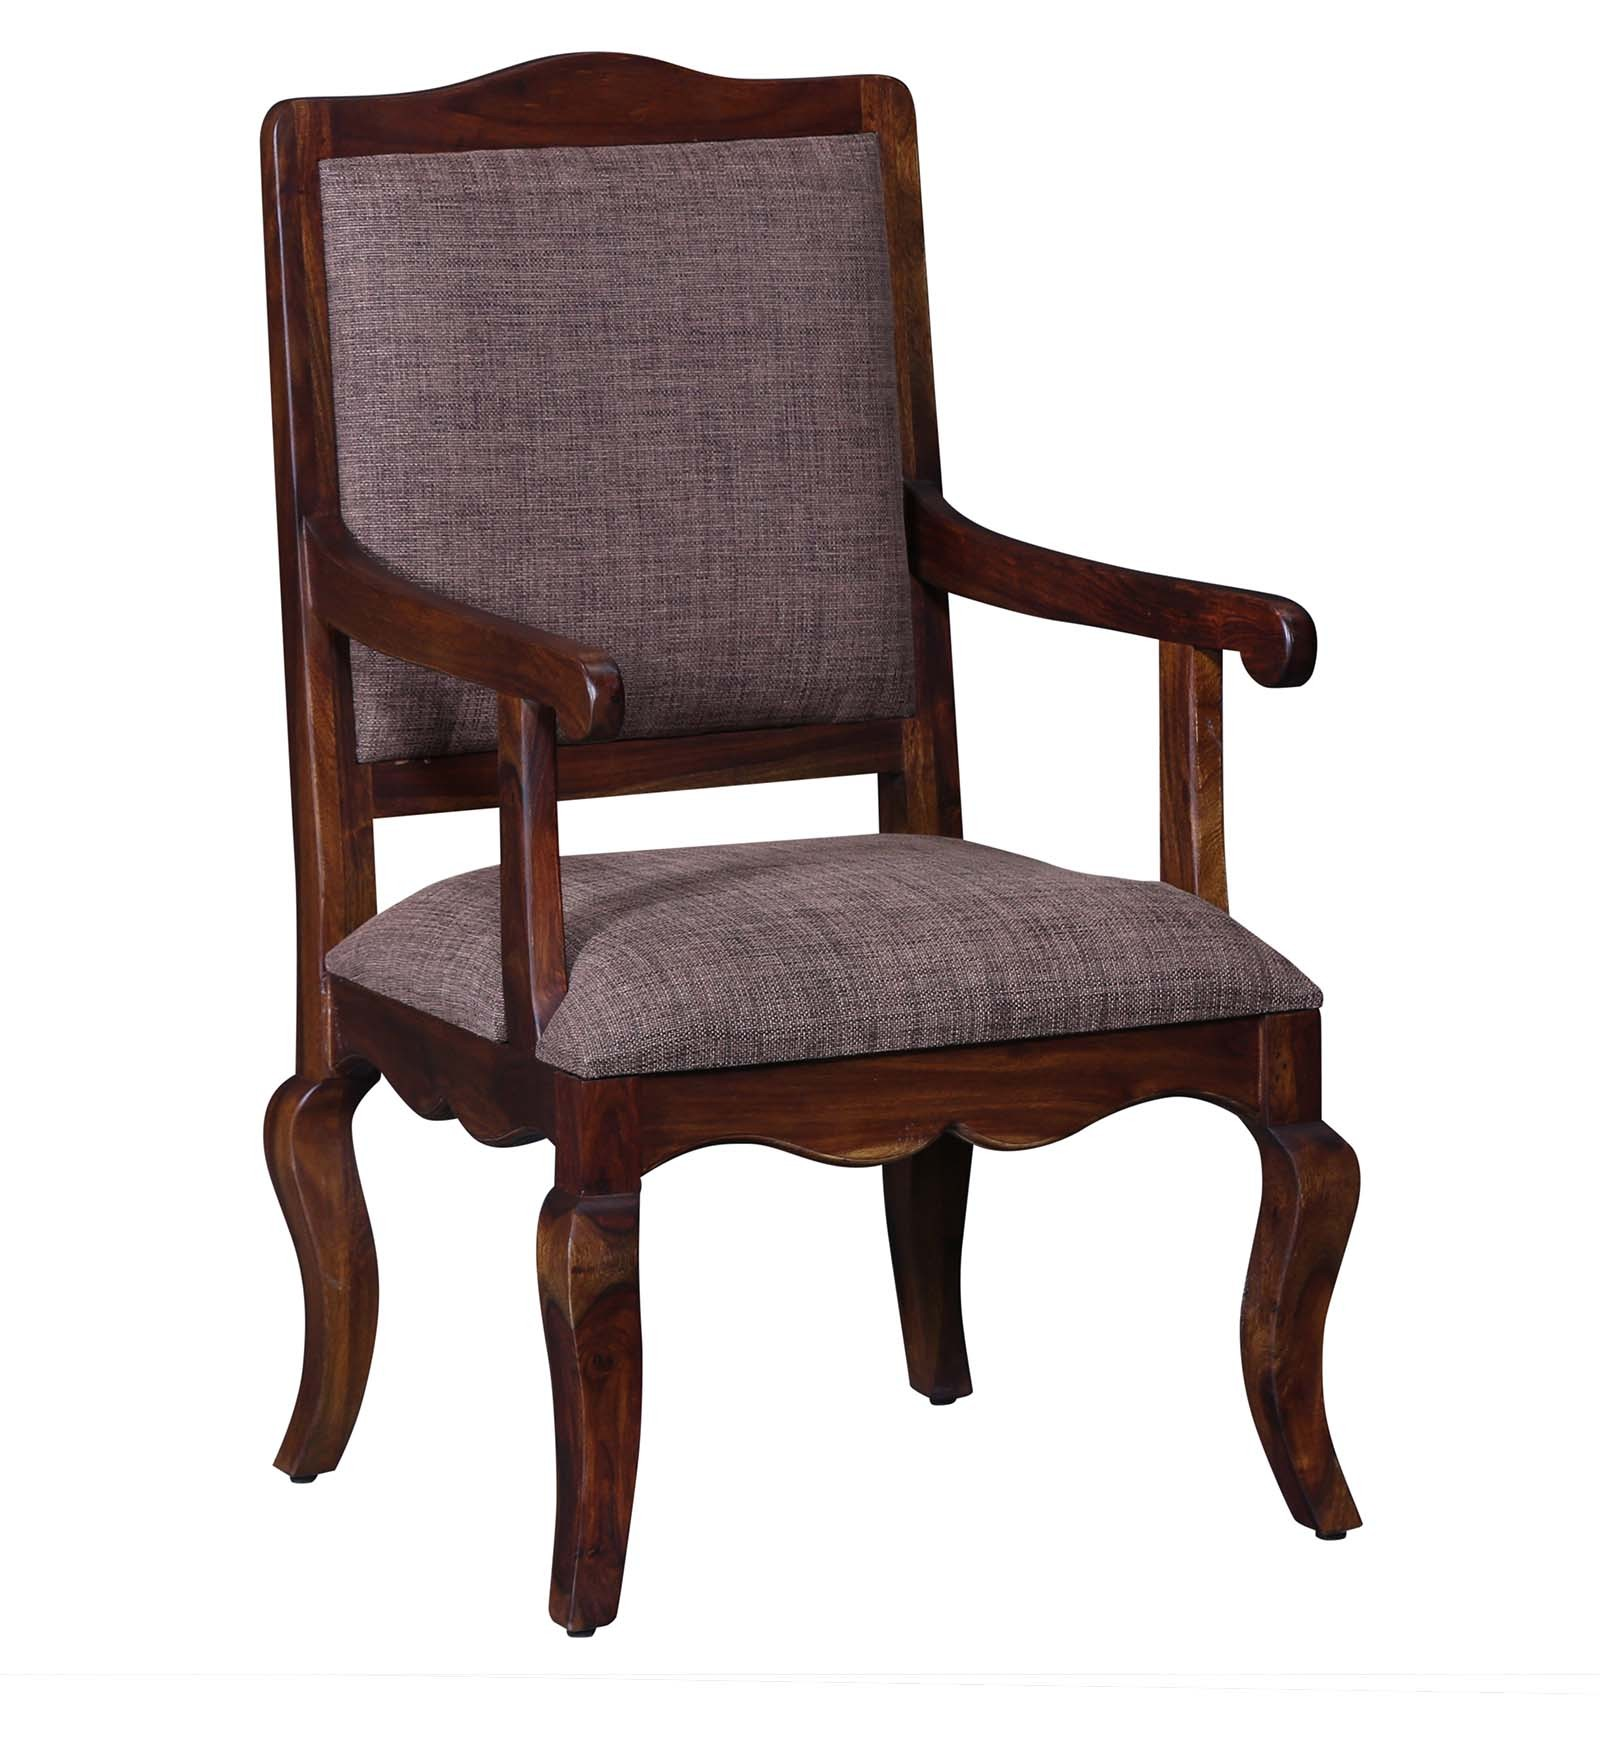Anne Arm Chair in Provincial Teak Finish by Amberville: (181, 44, 1379, 1634)
